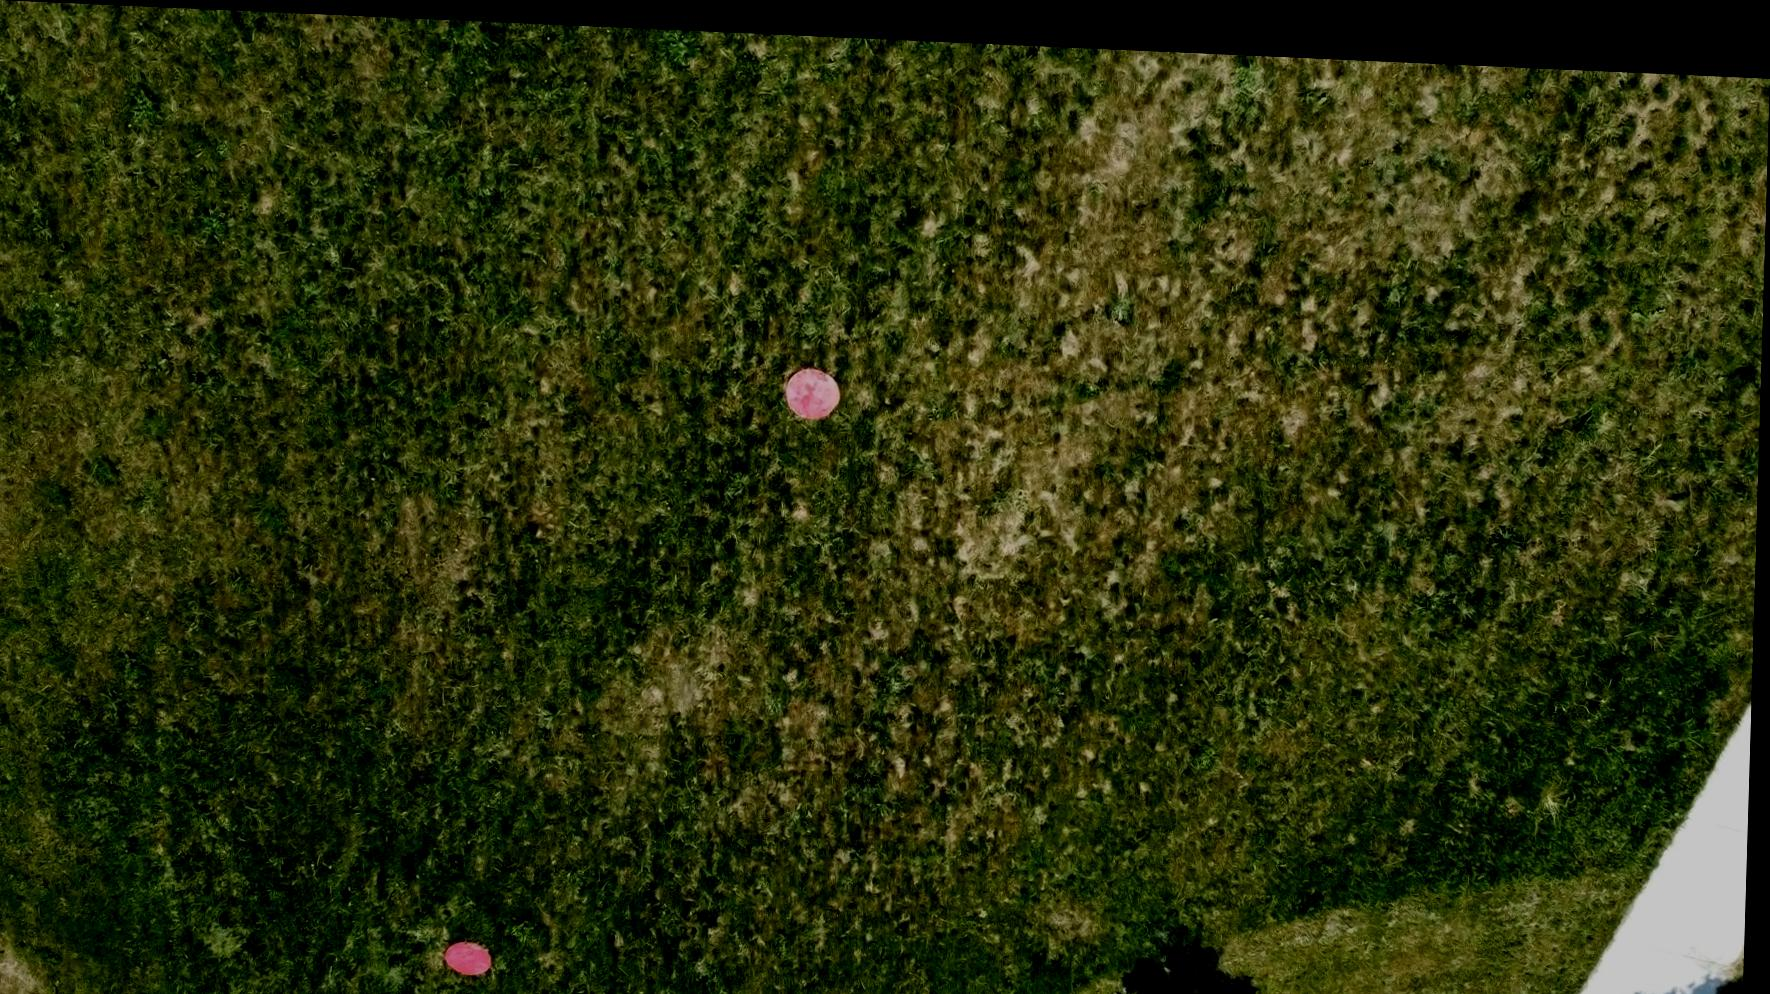Red: (784, 357, 845, 416), (449, 933, 501, 975)
